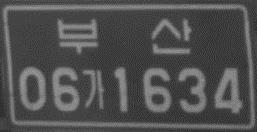0: (18, 64, 47, 112)
1: (112, 64, 131, 114)
3: (177, 66, 207, 116)
4: (212, 66, 244, 115)
6: (141, 65, 173, 114), (51, 65, 80, 111)
가: (81, 67, 108, 111)
부산_D: (55, 14, 193, 56)
